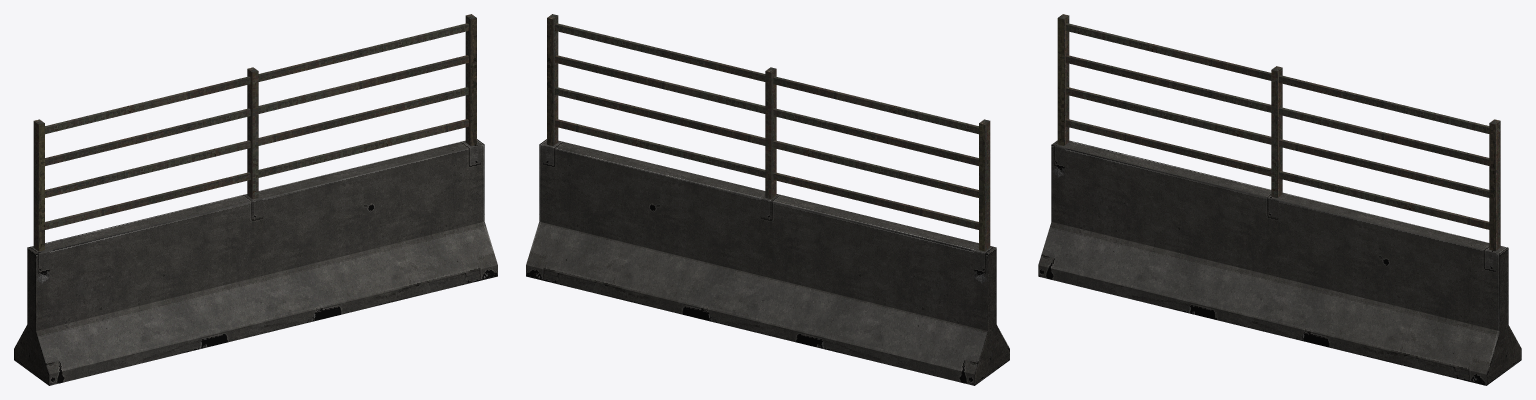
Rendered from barricade_b_3.glb.
3 views of the same model, side by side, from view 1: azimuth 30°, elevation 25°; view 2: azimuth 150°, elevation 25°; view 3: azimuth 330°, elevation 25° (orthographic).
Visible parts, largest first — view 1: barricade_b_3; view 2: barricade_b_3; view 3: barricade_b_3.
Boxes of the visible parts, bbox=[...] form: barricade_b_3: bbox=[14, 14, 497, 385]; barricade_b_3: bbox=[526, 14, 1009, 385]; barricade_b_3: bbox=[1038, 14, 1521, 385].
Bounding box in the file's own units: 2.94 × 1.56 × 0.4.
2 materials, 2 textured.
